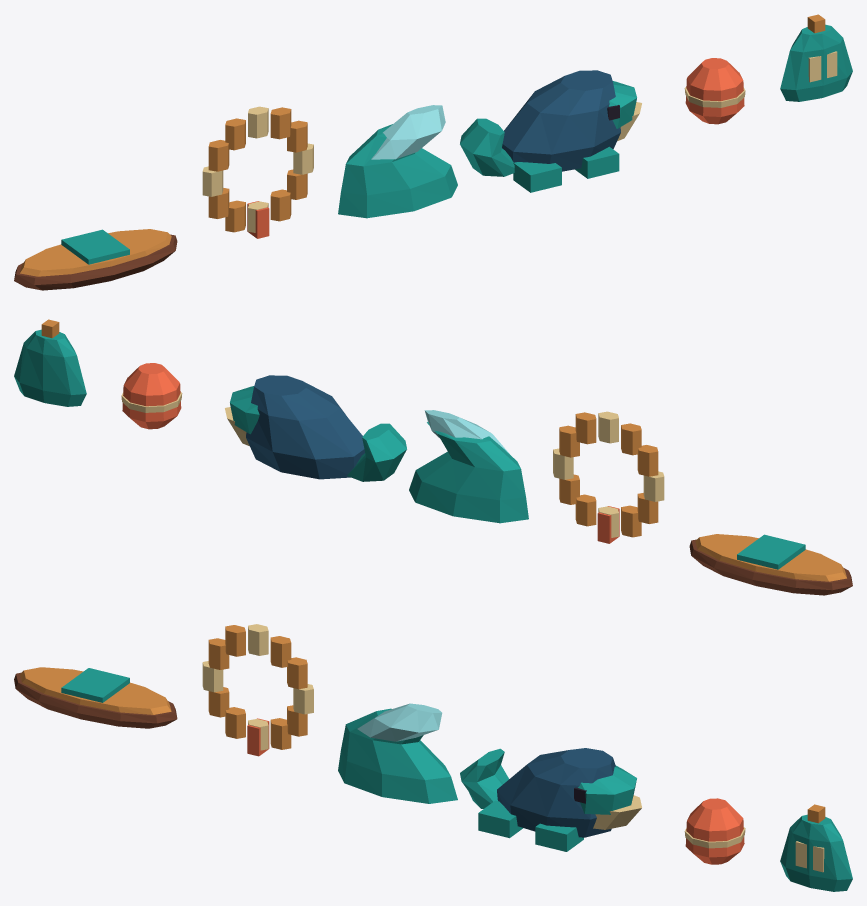
The model's file is nat-mualani-surf-model.obj.
3 views of the same model, one above another, from view 1: azimuth 30°, elevation 25°; view 2: azimuth 150°, elevation 25°; view 3: azimuth 330°, elevation 25° (orthographic).
Parts seen in each view (by area): view 1: ShallowsSport; view 2: ShallowsSport; view 3: ShallowsSport.
Boxes of the visible parts, x1=… form: ShallowsSport: x1=14, y1=14, x2=852, y2=290; ShallowsSport: x1=14, y1=319, x2=852, y2=595; ShallowsSport: x1=14, y1=624, x2=852, y2=891.
Bounding box in the file's own units: 8.52 × 1.2 × 0.8736.
